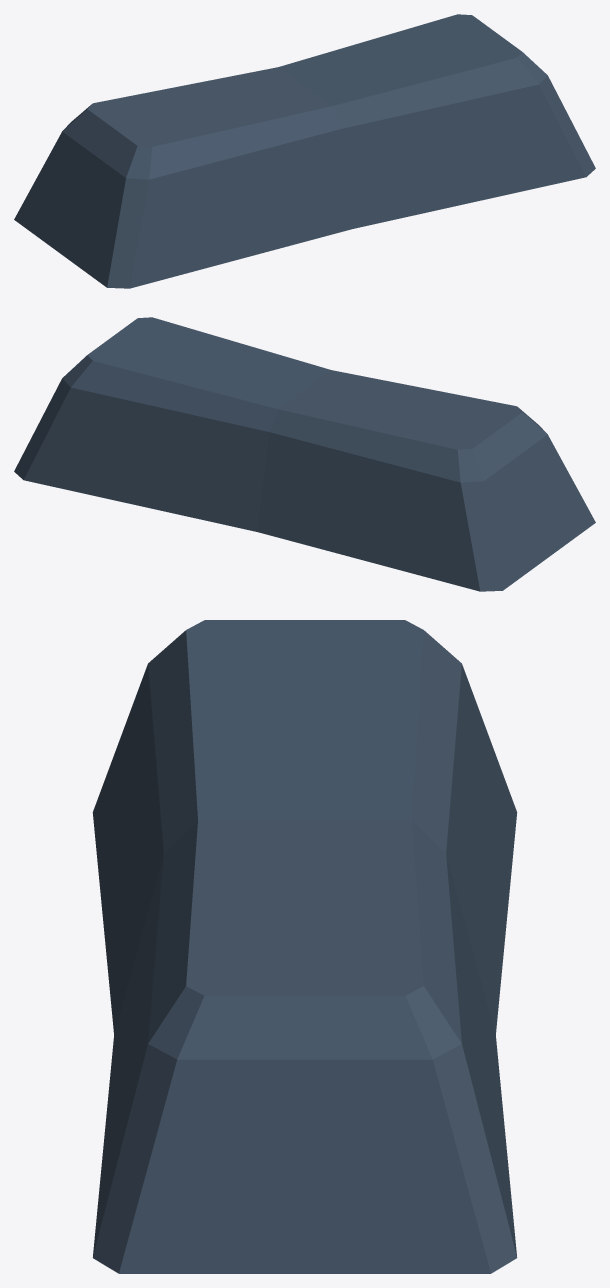
File: IronIngotA.fbx
3 views of the same model, one above another, from view 1: azimuth 30°, elevation 25°; view 2: azimuth 150°, elevation 25°; view 3: azimuth 270°, elevation 25° (orthographic). The views are drawn at different scales.
Parts seen in each view (by area): view 1: IronIngotA; view 2: IronIngotA; view 3: IronIngotA.
Part boxes in pixels (bbox=[...]): IronIngotA: bbox=[14, 14, 595, 288]; IronIngotA: bbox=[14, 317, 595, 591]; IronIngotA: bbox=[92, 620, 517, 1273].
Bounding box in the file's own units: 64.34 × 14.28 × 24.19.
